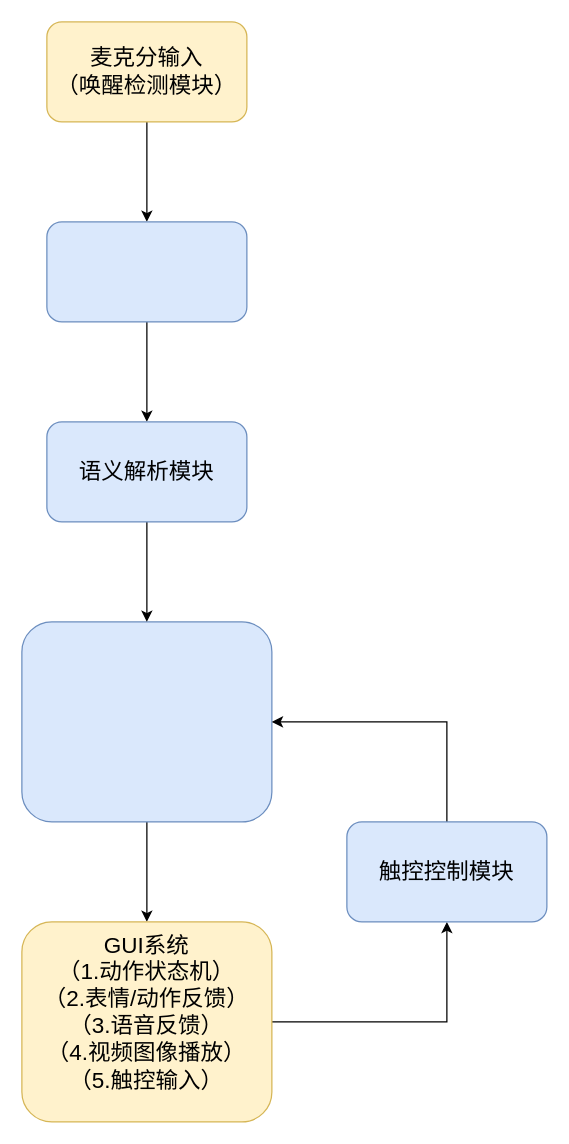
Image size: 569x1144. Some labels were removed from this diagram. The centre of each missing label's shape, as x and y in pixels:
"控制模块 （1.指令生成器） （2.情绪识别/匹配） （3.音频播放 ） （4.Socket通讯与UI层）" goes at pixel 146 721.
"语音识别模块" goes at pixel 146 271.
